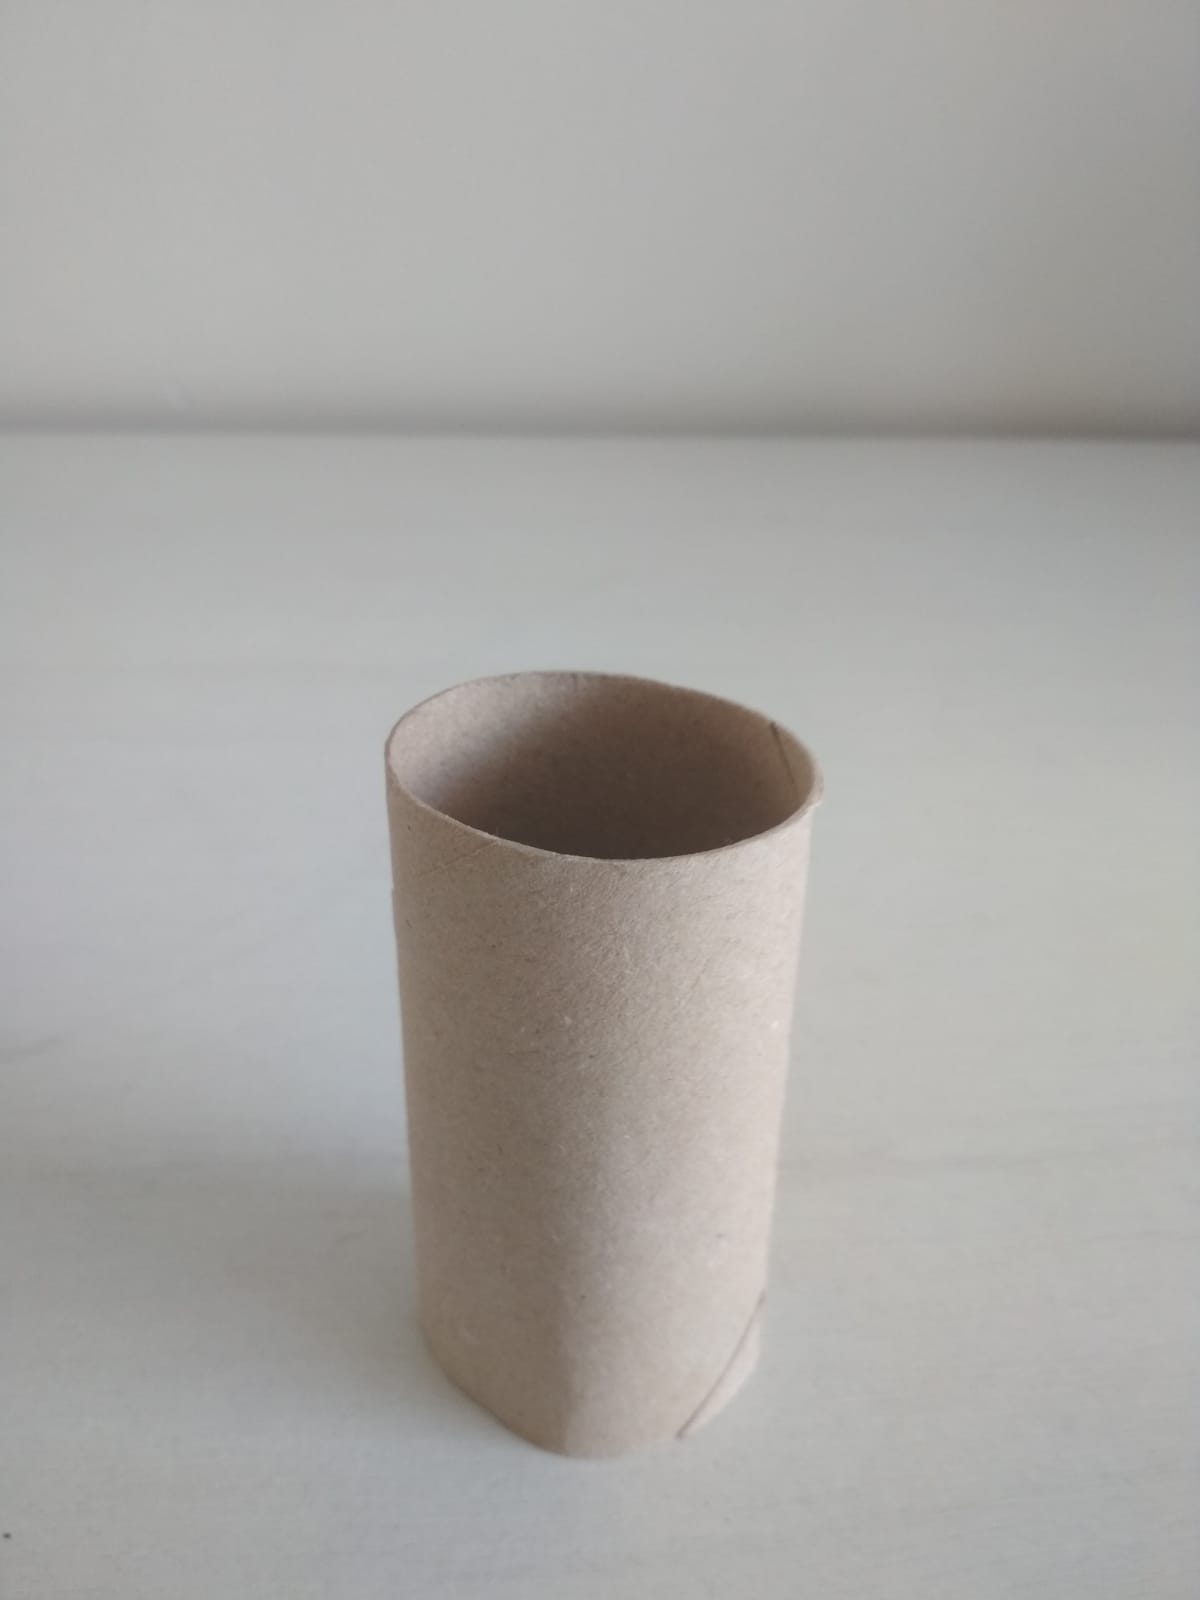rollo papel: (382, 668, 824, 1449)
